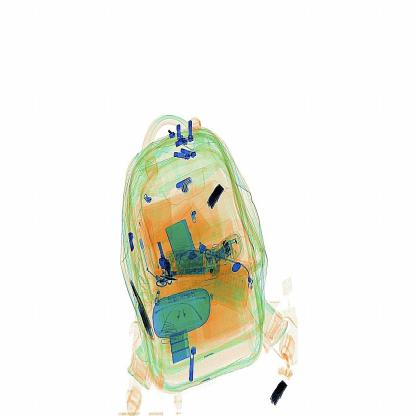scissors: (202, 180, 230, 209)
